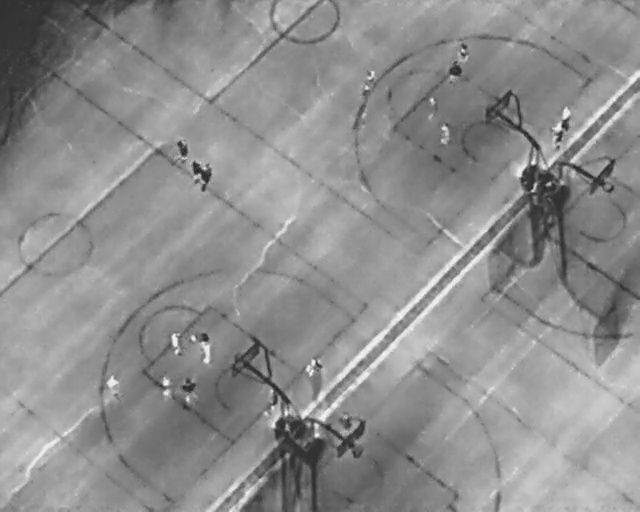Person: (191, 333, 213, 366), (105, 375, 123, 403), (181, 377, 198, 405), (168, 329, 182, 356), (363, 68, 379, 88), (160, 369, 170, 398), (457, 41, 468, 66), (553, 121, 562, 151), (177, 140, 188, 164), (451, 61, 462, 85), (202, 163, 211, 192), (191, 160, 202, 182), (441, 122, 451, 146), (562, 107, 572, 130), (428, 96, 436, 122)
